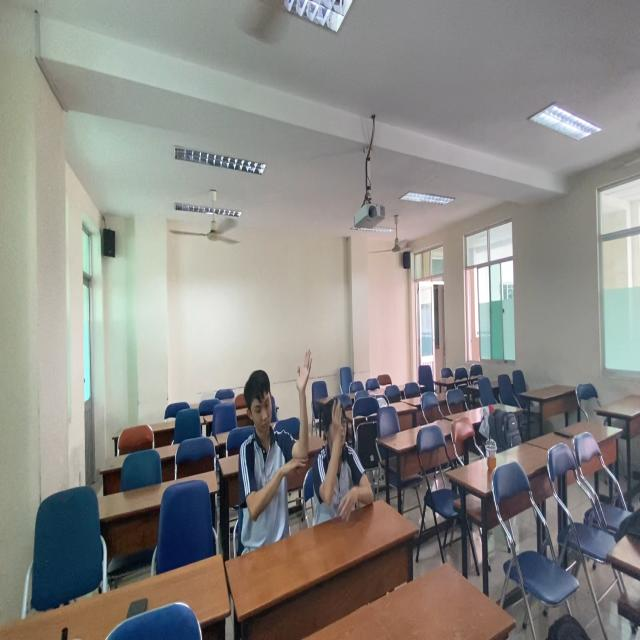raise_hand: (236, 344, 315, 557), (318, 397, 378, 528)
